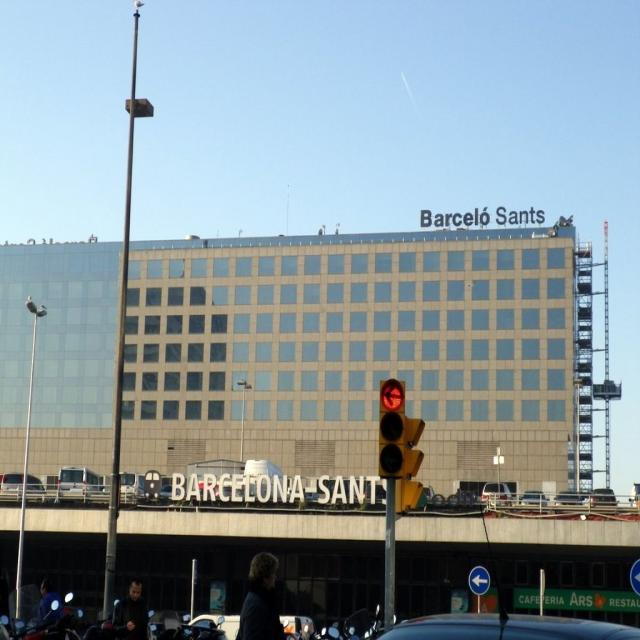road_sign: (468, 568, 492, 594)
traffic light: (379, 380, 406, 472)
